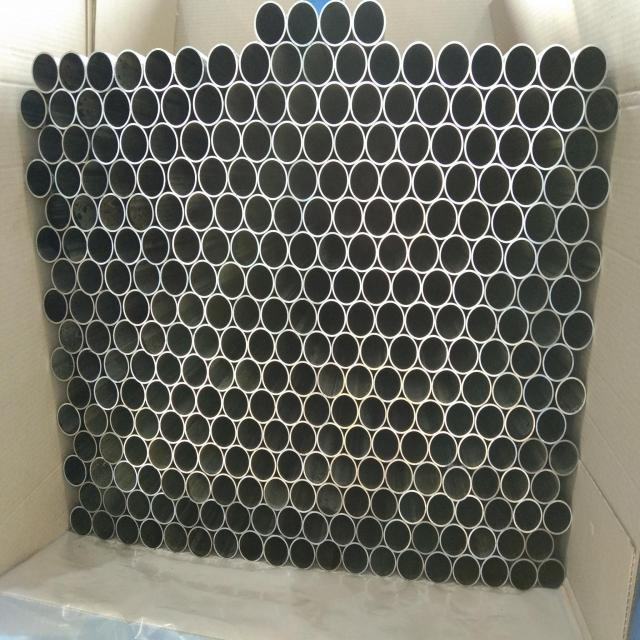pipe: (584, 85, 620, 134), (537, 43, 573, 91), (572, 43, 608, 91), (436, 40, 471, 88), (550, 84, 585, 132), (517, 84, 552, 132), (401, 40, 436, 88), (503, 43, 539, 89), (469, 42, 504, 89), (449, 83, 484, 130), (484, 83, 518, 131), (415, 82, 450, 128), (352, 0, 387, 46), (367, 40, 401, 87), (302, 40, 335, 88), (350, 80, 383, 128), (335, 39, 368, 87), (318, 0, 352, 46), (497, 124, 531, 170), (430, 121, 464, 167), (383, 81, 417, 127), (254, 0, 288, 46), (464, 123, 498, 169), (563, 126, 597, 172), (530, 125, 564, 171), (238, 40, 271, 87), (318, 80, 351, 127), (477, 162, 512, 206), (576, 165, 611, 209), (510, 163, 544, 208), (333, 120, 366, 166), (398, 121, 431, 167), (365, 120, 398, 166), (286, 0, 319, 46), (271, 40, 303, 87), (523, 201, 557, 245), (444, 161, 478, 205), (457, 198, 491, 242), (556, 202, 590, 246), (543, 164, 577, 208), (287, 81, 319, 127), (568, 239, 602, 282), (490, 200, 524, 243), (173, 46, 206, 90), (206, 43, 239, 87), (412, 160, 445, 204), (379, 159, 412, 203), (224, 80, 256, 125), (302, 120, 334, 165), (536, 238, 570, 280), (256, 80, 287, 126), (425, 197, 458, 240), (193, 82, 225, 126), (317, 158, 349, 202), (348, 158, 380, 202), (394, 196, 426, 240), (272, 120, 303, 165), (470, 235, 504, 276), (516, 273, 550, 314), (504, 237, 537, 279), (363, 195, 395, 238), (161, 84, 192, 128), (241, 119, 272, 163), (211, 118, 242, 162), (287, 158, 318, 202), (549, 275, 582, 316), (484, 270, 517, 311), (439, 234, 472, 275), (562, 310, 595, 351), (144, 48, 175, 91), (180, 120, 211, 163), (149, 121, 180, 164), (197, 155, 228, 198), (257, 158, 288, 201), (333, 195, 364, 238), (114, 48, 144, 92), (497, 306, 530, 346), (529, 308, 562, 348), (541, 342, 574, 382), (452, 270, 485, 310), (407, 233, 439, 274), (136, 157, 167, 199), (167, 156, 198, 198), (272, 194, 303, 236), (131, 85, 161, 128), (228, 156, 258, 199), (18, 86, 48, 129), (465, 304, 498, 343), (509, 340, 542, 379), (421, 268, 453, 308), (103, 86, 132, 130), (86, 49, 115, 93), (302, 196, 333, 237), (377, 232, 408, 273), (347, 232, 378, 273), (214, 192, 244, 234), (522, 374, 555, 412), (447, 336, 479, 375), (491, 371, 523, 410), (434, 302, 466, 341), (478, 338, 510, 377), (554, 376, 586, 415), (58, 50, 87, 93), (30, 50, 59, 93), (361, 266, 392, 306), (391, 267, 422, 307), (119, 123, 149, 164), (172, 225, 202, 266), (155, 191, 185, 232), (185, 191, 215, 232), (243, 193, 273, 234), (201, 226, 231, 267), (317, 231, 347, 272), (91, 123, 120, 165), (535, 407, 567, 445), (461, 369, 492, 408), (417, 334, 448, 373), (404, 301, 435, 340), (48, 87, 76, 130), (76, 87, 104, 130), (230, 228, 260, 268), (141, 225, 171, 265), (259, 229, 289, 269), (288, 231, 318, 271), (302, 264, 332, 304), (273, 263, 303, 303), (108, 158, 137, 199), (517, 437, 549, 474), (431, 368, 462, 406), (401, 367, 432, 405), (444, 400, 475, 438), (63, 123, 91, 165), (217, 261, 247, 300), (332, 266, 362, 305), (288, 297, 318, 336), (388, 333, 418, 372), (346, 300, 376, 339), (375, 300, 405, 339), (113, 225, 142, 265), (126, 192, 155, 232), (25, 158, 54, 198), (81, 159, 109, 200), (487, 435, 518, 472), (504, 405, 535, 442), (474, 403, 505, 440), (548, 439, 579, 476), (530, 468, 561, 505), (359, 332, 389, 370), (331, 331, 361, 369), (415, 399, 445, 437), (457, 433, 487, 471), (317, 299, 347, 337), (500, 466, 530, 504), (428, 430, 458, 468), (160, 258, 189, 297), (189, 259, 218, 298), (245, 262, 274, 301), (260, 296, 289, 335), (232, 294, 261, 333), (98, 193, 126, 233), (54, 159, 82, 199), (71, 192, 99, 232), (441, 465, 472, 501), (512, 498, 543, 534), (483, 496, 514, 532), (316, 362, 346, 399), (386, 397, 416, 434), (373, 365, 403, 402), (399, 429, 429, 466), (471, 465, 501, 502), (525, 527, 555, 564), (177, 291, 206, 329), (204, 292, 233, 330), (345, 362, 374, 400), (104, 258, 133, 296), (303, 330, 332, 368), (38, 123, 64, 165), (35, 225, 63, 264), (87, 225, 114, 265), (412, 461, 442, 497), (496, 526, 526, 562), (410, 520, 440, 556), (439, 522, 469, 558), (426, 492, 456, 528), (132, 259, 161, 296), (343, 423, 372, 460), (289, 360, 318, 397), (274, 329, 303, 366), (371, 426, 400, 463), (358, 394, 387, 431), (77, 258, 105, 296), (220, 325, 248, 363), (45, 192, 72, 231), (454, 495, 484, 530), (542, 500, 572, 535), (357, 456, 386, 492), (384, 458, 413, 494), (302, 392, 331, 428), (370, 486, 399, 522), (316, 422, 345, 458), (342, 484, 371, 520), (62, 225, 88, 265), (234, 357, 262, 394), (247, 327, 275, 364), (166, 321, 194, 358), (262, 358, 290, 395), (123, 289, 151, 326), (192, 323, 220, 360), (51, 257, 78, 295), (396, 547, 425, 582), (468, 525, 497, 560), (398, 490, 427, 525), (480, 555, 509, 590), (383, 518, 412, 553), (509, 557, 538, 592), (248, 388, 276, 424), (207, 355, 235, 391), (150, 290, 178, 326), (275, 390, 303, 426), (276, 448, 304, 484), (262, 418, 290, 454), (289, 420, 317, 456), (315, 482, 343, 518), (95, 290, 123, 326), (84, 319, 112, 355), (330, 393, 358, 429), (140, 320, 167, 357), (68, 288, 95, 325), (424, 551, 453, 585), (452, 553, 481, 587), (537, 558, 566, 592), (236, 474, 264, 509), (222, 386, 250, 421), (329, 453, 357, 488), (112, 320, 140, 355), (103, 348, 131, 383), (75, 348, 103, 383), (302, 451, 330, 486), (276, 505, 303, 541), (181, 353, 208, 389), (289, 478, 316, 514), (155, 351, 182, 387), (224, 444, 251, 480), (250, 446, 277, 482), (196, 384, 223, 420), (262, 477, 290, 511), (369, 544, 397, 578), (341, 541, 369, 575), (328, 513, 356, 547), (355, 515, 383, 549), (289, 536, 316, 571), (302, 510, 329, 545), (198, 442, 225, 477), (130, 349, 157, 384), (133, 407, 160, 442), (184, 412, 211, 447), (170, 382, 197, 417), (236, 416, 263, 451), (119, 377, 146, 412), (43, 288, 69, 324), (58, 318, 84, 354), (250, 503, 277, 537), (185, 470, 212, 504), (211, 473, 238, 507), (172, 439, 199, 473), (210, 414, 237, 448), (93, 376, 120, 410), (263, 533, 289, 568), (145, 379, 171, 414), (159, 409, 185, 444), (50, 347, 76, 382), (224, 501, 251, 534), (199, 499, 226, 532), (315, 539, 342, 572), (238, 529, 264, 563), (148, 437, 174, 471), (187, 525, 213, 559), (109, 404, 135, 438), (66, 376, 92, 410), (83, 403, 109, 437), (136, 463, 162, 496), (174, 496, 200, 529), (150, 492, 176, 525), (123, 434, 149, 467), (56, 403, 82, 436), (98, 432, 124, 465), (213, 526, 238, 560), (163, 521, 188, 555), (126, 488, 151, 522), (102, 485, 127, 519), (72, 430, 98, 462), (88, 457, 114, 489), (161, 467, 186, 500), (115, 514, 140, 547), (113, 460, 138, 493), (139, 517, 164, 550), (63, 456, 88, 487), (69, 506, 93, 538), (91, 510, 115, 542), (79, 482, 103, 514)
